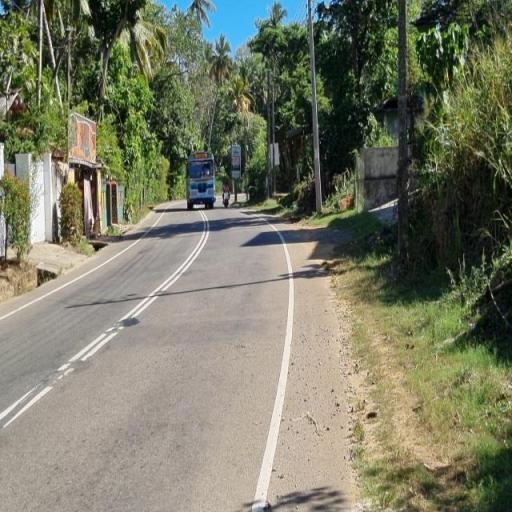double_white_line: (54, 216, 208, 378)
